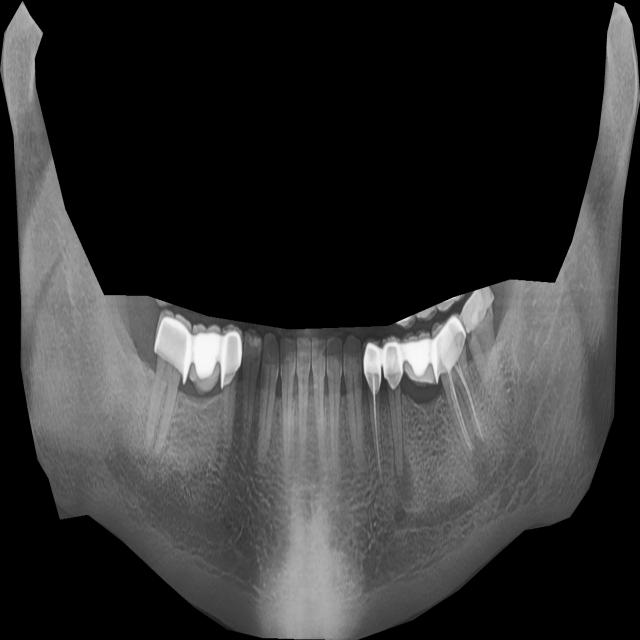mandibula: (0, 1, 640, 640)
